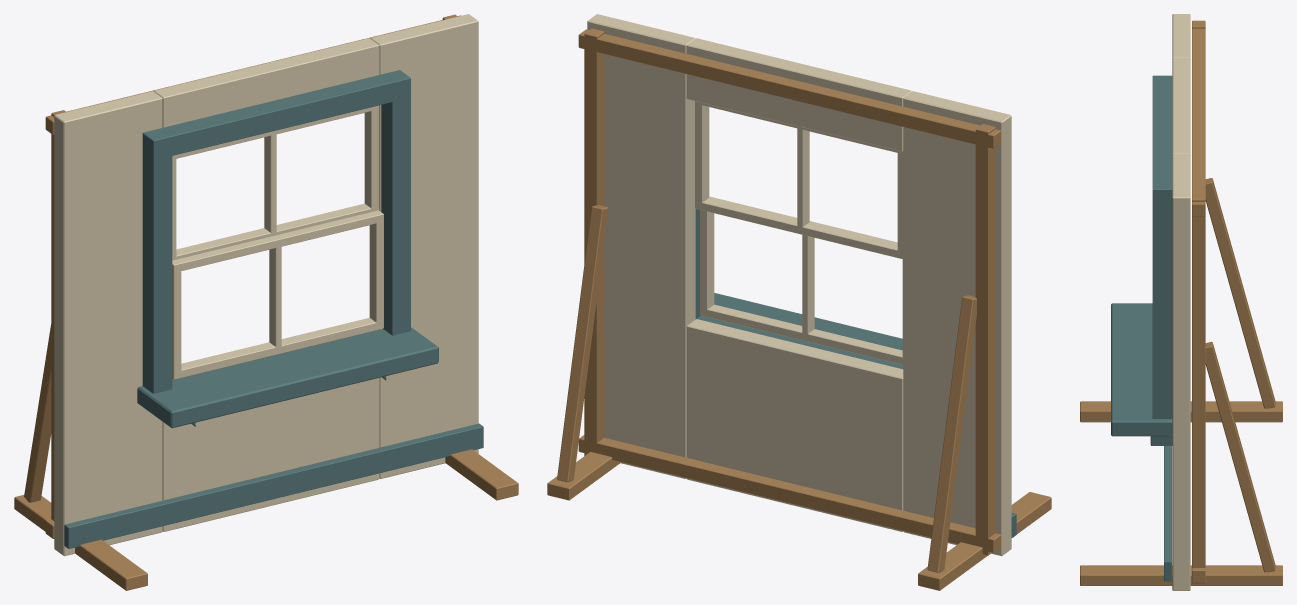
Rendered from S006_sash_window_wall_rebuilt.glb.
3 views of the same model, side by side, from view 1: azimuth 30°, elevation 25°; view 2: azimuth 150°, elevation 25°; view 3: azimuth 270°, elevation 25° (orthographic). The views are drawn at different scales.
Visible parts, largest first — view 1: Warm_matte_scenic_paint, Muted_teal_scenic_paint, Scenic_framing_warm_bare_timber; view 2: Warm_matte_scenic_paint, Scenic_framing_warm_bare_timber, Muted_teal_scenic_paint; view 3: Scenic_framing_warm_bare_timber, Muted_teal_scenic_paint, Warm_matte_scenic_paint.
Part boxes in pixels (left/top/right/bottom): Warm_matte_scenic_paint: left=54, top=14, right=478, bottom=556; Muted_teal_scenic_paint: left=64, top=70, right=483, bottom=548; Scenic_framing_warm_bare_timber: left=14, top=14, right=518, bottom=590; Warm_matte_scenic_paint: left=587, top=14, right=1011, bottom=556; Scenic_framing_warm_bare_timber: left=547, top=28, right=1051, bottom=590; Muted_teal_scenic_paint: left=695, top=209, right=1016, bottom=537; Scenic_framing_warm_bare_timber: left=1080, top=20, right=1282, bottom=585; Muted_teal_scenic_paint: left=1111, top=75, right=1172, bottom=581; Warm_matte_scenic_paint: left=1172, top=14, right=1190, bottom=590.
Bounding box in the file's own units: 2.4 × 2.4 × 1.12.
